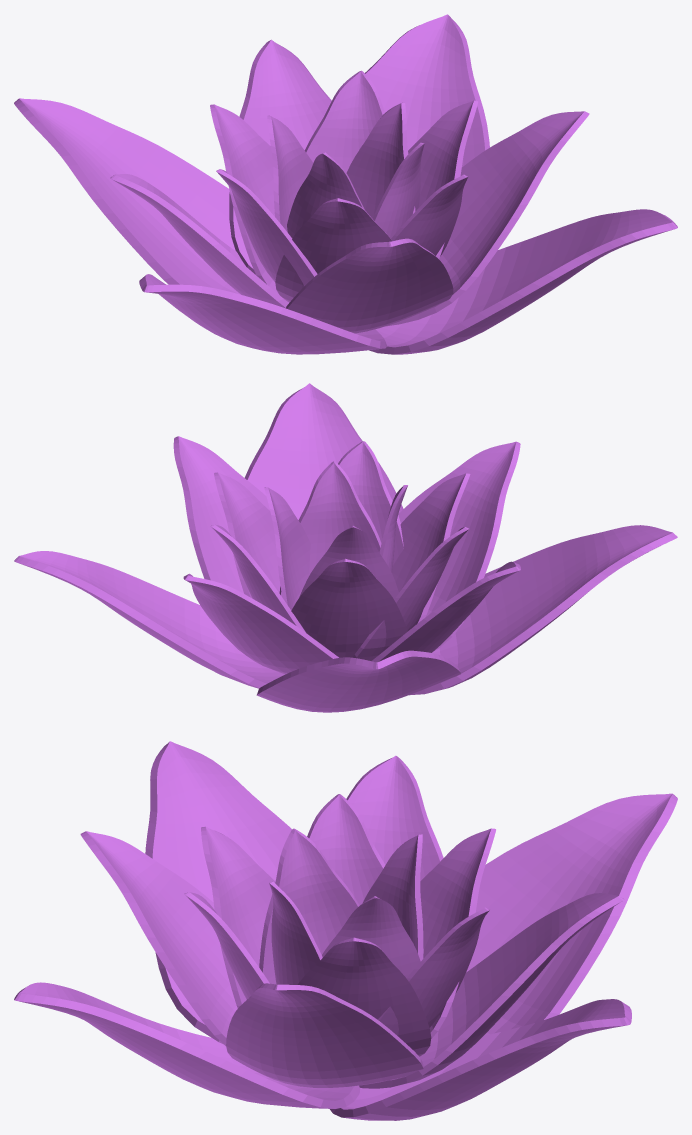
File: PURPLELOTUS.fbx
The picture shows the model from 3 angles, top to bottom: view 1: azimuth 30°, elevation 25°; view 2: azimuth 150°, elevation 25°; view 3: azimuth 270°, elevation 25°; orthographic projection. The views are drawn at different scales.
Parts seen in each view (by area): view 1: Plane.004, Plane.002, Plane.010, Plane.007, Plane, Plane.003, Plane.009, Plane.015, Plane.013, Plane.008, Plane.012, Plane.018 (+6 smaller); view 2: Plane.003, Plane, Plane.002, Plane.004, Plane.007, Plane.013, Plane.009, Plane.010, Plane.017, Plane.015, Plane.011, Plane.008 (+6 smaller); view 3: Plane.004, Plane.010, Plane.003, Plane.007, Plane.002, Plane, Plane.009, Plane.011, Plane.020, Plane.008, Plane.015, Plane.013 (+6 smaller).
Boxes of the visible parts, x1,y1,x2,y2 form: Plane.004: (14, 98, 240, 294); Plane.002: (369, 209, 677, 354); Plane.010: (385, 111, 589, 326); Plane.007: (286, 238, 453, 333); Plane: (365, 14, 489, 166); Plane.003: (139, 274, 386, 354); Plane.009: (229, 39, 331, 274); Plane.015: (275, 198, 392, 302); Plane.013: (210, 104, 288, 302); Plane.008: (110, 174, 288, 308); Plane.012: (304, 70, 384, 172); Plane.018: (346, 102, 415, 218); Plane.003: (409, 525, 677, 695); Plane: (14, 551, 284, 688); Plane.002: (244, 383, 403, 519); Plane.004: (256, 650, 460, 712); Plane.007: (398, 441, 520, 650); Plane.013: (291, 558, 407, 657); Plane.009: (183, 573, 338, 674); Plane.010: (173, 436, 269, 593); Plane.017: (279, 461, 381, 596); Plane.015: (392, 473, 470, 626); Plane.011: (214, 472, 280, 598); Plane.008: (371, 561, 520, 662); Plane.004: (466, 793, 677, 1035); Plane.010: (226, 983, 423, 1087); Plane.003: (145, 741, 291, 1044); Plane.007: (80, 831, 237, 1045); Plane.002: (14, 982, 360, 1108); Plane: (330, 999, 631, 1120); Plane.009: (359, 893, 624, 1088); Plane.011: (297, 937, 431, 1056); Plane.020: (259, 828, 359, 984); Plane.008: (346, 755, 443, 880); Plane.015: (201, 826, 275, 1008); Plane.013: (420, 828, 495, 1038).
Bounding box in the file's own units: 504 × 185 × 503.
